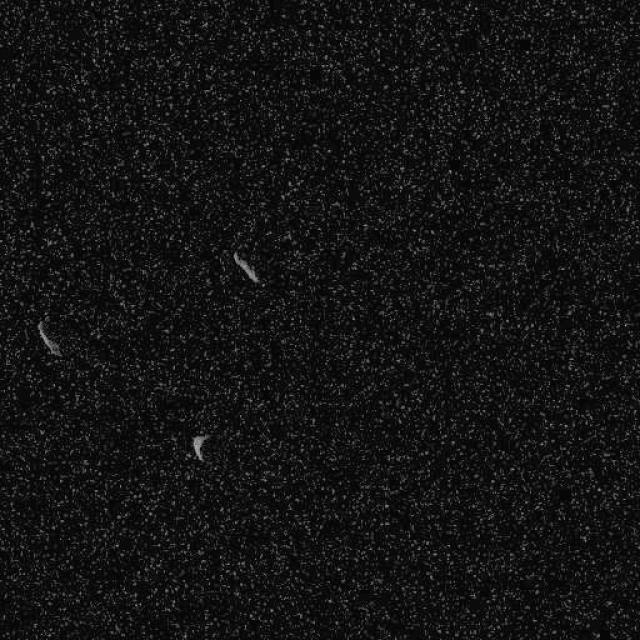D2: (35, 318, 63, 358), (231, 250, 260, 285), (190, 432, 210, 462)
